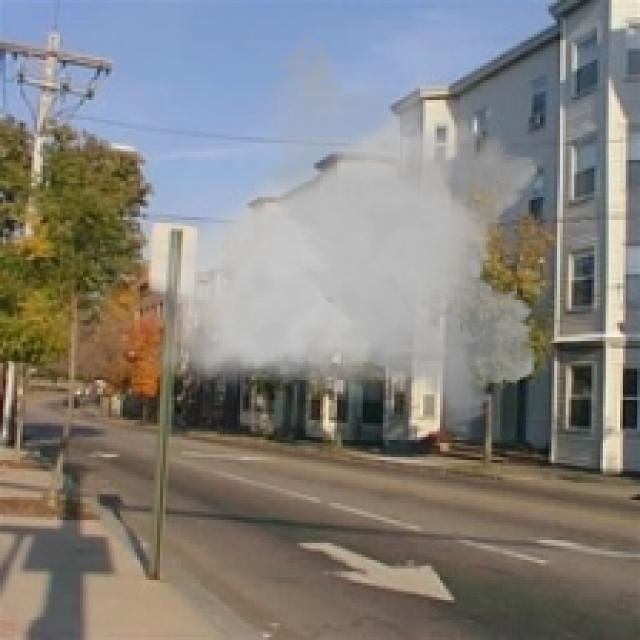Smoke: (137, 32, 549, 434)
